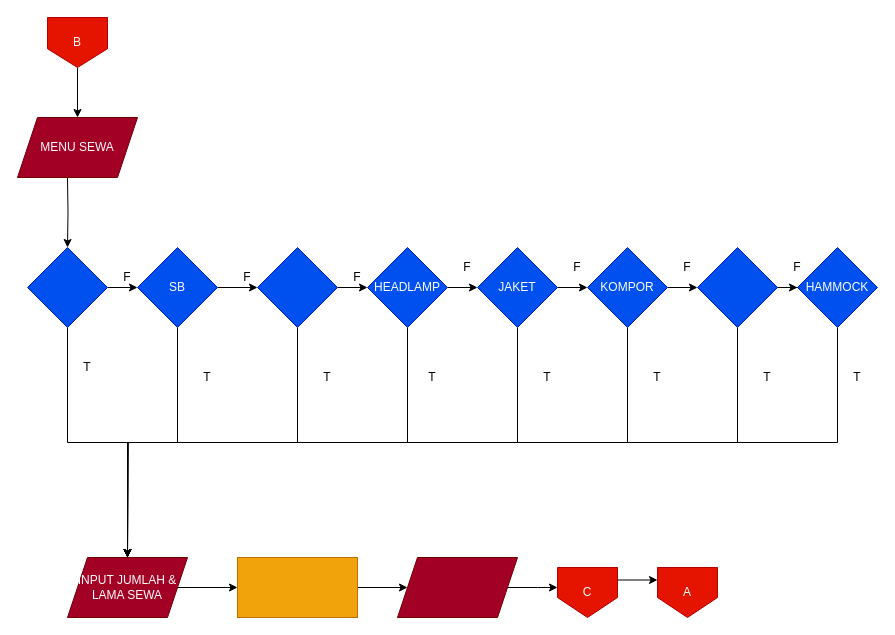
The diagram is 895 pixels wide and 635 high, and some of its shapes have lost their labels. Each missing label, with the box of its shape:
BAYAR: (396, 556, 518, 618)
GAITER: (696, 246, 778, 328)
MATRAS: (256, 246, 338, 328)
PROSES HITUNG HARGA: (236, 556, 358, 618)
TENDA: (26, 246, 108, 328)
